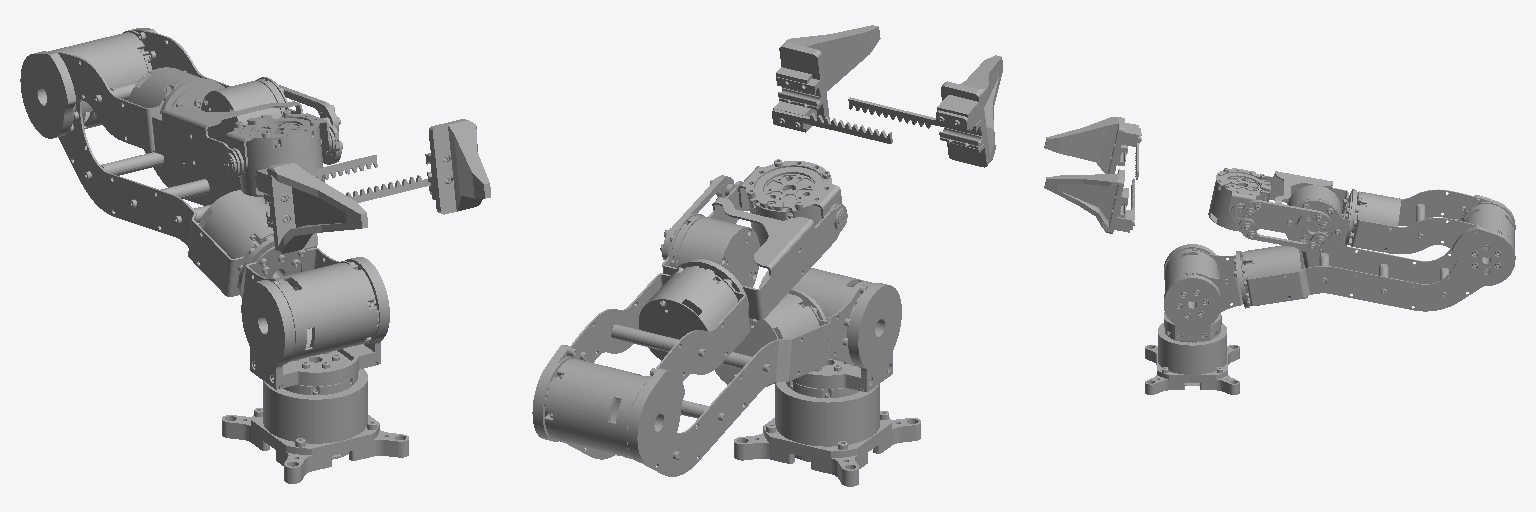
URDF robot description (openarm_grip):
<?xml version="1.0" ?>
<!-- =================================================================================== -->
<!-- |    This document was autogenerated by xacro from openarm_grip.xacro             | -->
<!-- |    EDITING THIS FILE BY HAND IS NOT RECOMMENDED                                 | -->
<!-- =================================================================================== -->
<robot name="openarm_grip">
  <material name="silver">
    <color rgba="0.700 0.700 0.700 1.000"/>
  </material>
  <transmission name="rev1_tran">
    <type>transmission_interface/SimpleTransmission</type>
    <joint name="rev1">
      <hardwareInterface>hardware_interface/EffortJointInterface</hardwareInterface>
    </joint>
    <actuator name="rev1_actr">
      <hardwareInterface>hardware_interface/EffortJointInterface</hardwareInterface>
      <mechanicalReduction>1</mechanicalReduction>
    </actuator>
  </transmission>
  <transmission name="rev2_tran">
    <type>transmission_interface/SimpleTransmission</type>
    <joint name="rev2">
      <hardwareInterface>hardware_interface/EffortJointInterface</hardwareInterface>
    </joint>
    <actuator name="rev2_actr">
      <hardwareInterface>hardware_interface/EffortJointInterface</hardwareInterface>
      <mechanicalReduction>1</mechanicalReduction>
    </actuator>
  </transmission>
  <transmission name="rev3_tran">
    <type>transmission_interface/SimpleTransmission</type>
    <joint name="rev3">
      <hardwareInterface>hardware_interface/EffortJointInterface</hardwareInterface>
    </joint>
    <actuator name="rev3_actr">
      <hardwareInterface>hardware_interface/EffortJointInterface</hardwareInterface>
      <mechanicalReduction>1</mechanicalReduction>
    </actuator>
  </transmission>
  <transmission name="rev4_tran">
    <type>transmission_interface/SimpleTransmission</type>
    <joint name="rev4">
      <hardwareInterface>hardware_interface/EffortJointInterface</hardwareInterface>
    </joint>
    <actuator name="rev4_actr">
      <hardwareInterface>hardware_interface/EffortJointInterface</hardwareInterface>
      <mechanicalReduction>1</mechanicalReduction>
    </actuator>
  </transmission>
  <transmission name="rev5_tran">
    <type>transmission_interface/SimpleTransmission</type>
    <joint name="rev5">
      <hardwareInterface>hardware_interface/EffortJointInterface</hardwareInterface>
    </joint>
    <actuator name="rev5_actr">
      <hardwareInterface>hardware_interface/EffortJointInterface</hardwareInterface>
      <mechanicalReduction>1</mechanicalReduction>
    </actuator>
  </transmission>
  <transmission name="rev6_tran">
    <type>transmission_interface/SimpleTransmission</type>
    <joint name="rev6">
      <hardwareInterface>hardware_interface/EffortJointInterface</hardwareInterface>
    </joint>
    <actuator name="rev6_actr">
      <hardwareInterface>hardware_interface/EffortJointInterface</hardwareInterface>
      <mechanicalReduction>1</mechanicalReduction>
    </actuator>
  </transmission>
  <transmission name="rev7_tran">
    <type>transmission_interface/SimpleTransmission</type>
    <joint name="rev7">
      <hardwareInterface>hardware_interface/EffortJointInterface</hardwareInterface>
    </joint>
    <actuator name="rev7_actr">
      <hardwareInterface>hardware_interface/EffortJointInterface</hardwareInterface>
      <mechanicalReduction>1</mechanicalReduction>
    </actuator>
  </transmission>
  <transmission name="slider_left_tran">
    <type>transmission_interface/SimpleTransmission</type>
    <joint name="slider_left">
      <hardwareInterface>hardware_interface/EffortJointInterface</hardwareInterface>
    </joint>
    <actuator name="slider_left_actr">
      <hardwareInterface>hardware_interface/EffortJointInterface</hardwareInterface>
      <mechanicalReduction>1</mechanicalReduction>
    </actuator>
  </transmission>
  <transmission name="slider_right_tran">
    <type>transmission_interface/SimpleTransmission</type>
    <joint name="slider_right">
      <hardwareInterface>hardware_interface/EffortJointInterface</hardwareInterface>
    </joint>
    <actuator name="slider_right_actr">
      <hardwareInterface>hardware_interface/EffortJointInterface</hardwareInterface>
      <mechanicalReduction>1</mechanicalReduction>
    </actuator>
  </transmission>
  <gazebo>
    <plugin filename="gz_ros2_control-system" name="gz_ros2_control::GazeboSimROS2ControlPlugin"/>
  </gazebo>
  <gazebo reference="base_link">
    <material>Gazebo/Silver</material>
    <mu1>0.2</mu1>
    <mu2>0.2</mu2>
    <self_collide>true</self_collide>
    <gravity>true</gravity>
  </gazebo>
  <gazebo reference="J2_v1_1">
    <material>Gazebo/Silver</material>
    <mu1>0.2</mu1>
    <mu2>0.2</mu2>
    <self_collide>true</self_collide>
  </gazebo>
  <gazebo reference="J3_v1_1">
    <material>Gazebo/Silver</material>
    <mu1>0.2</mu1>
    <mu2>0.2</mu2>
    <self_collide>true</self_collide>
  </gazebo>
  <gazebo reference="J4_v1_1">
    <material>Gazebo/Silver</material>
    <mu1>0.2</mu1>
    <mu2>0.2</mu2>
    <self_collide>true</self_collide>
  </gazebo>
  <gazebo reference="J5_v1_1">
    <material>Gazebo/Silver</material>
    <mu1>0.2</mu1>
    <mu2>0.2</mu2>
    <self_collide>true</self_collide>
  </gazebo>
  <gazebo reference="J6_v1_1">
    <material>Gazebo/Silver</material>
    <mu1>0.2</mu1>
    <mu2>0.2</mu2>
    <self_collide>true</self_collide>
  </gazebo>
  <gazebo reference="J7_v1_1">
    <material>Gazebo/Silver</material>
    <mu1>0.2</mu1>
    <mu2>0.2</mu2>
    <self_collide>true</self_collide>
  </gazebo>
  <gazebo reference="grip_attach_1">
    <material>Gazebo/Silver</material>
    <mu1>0.2</mu1>
    <mu2>0.2</mu2>
    <self_collide>true</self_collide>
  </gazebo>
  <gazebo reference="left_jaw_1">
    <material>Gazebo/Silver</material>
    <mu1>0.2</mu1>
    <mu2>0.2</mu2>
    <self_collide>true</self_collide>
  </gazebo>
  <gazebo reference="right_jaw_1">
    <material>Gazebo/Silver</material>
    <mu1>0.2</mu1>
    <mu2>0.2</mu2>
    <self_collide>true</self_collide>
  </gazebo>
  <link name="world"/>
  <joint name="world_joint" type="fixed">
    <parent link="world"/>
    <child link="base_link"/>
    <origin rpy="0.0 0.0 0.0" xyz="0.0 0.0 0.0"/>
  </joint>
  <link name="base_link">
    <inertial>
      <origin rpy="0 0 0" xyz="1.659663993709495e-08 0.00015470291788827239 -0.03159176823669262"/>
      <mass value="0.9159780860248254"/>
      <inertia ixx="0.000802" ixy="-0.0" ixz="0.0" iyy="0.000799" iyz="-0.0" izz="0.001037"/>
    </inertial>
    <visual>
      <origin rpy="0 0 0" xyz="0 0 0"/>
      <geometry>
        <mesh filename="package://openarm_grip_description/meshes/base_link.stl" scale="0.001 0.001 0.001"/>
      </geometry>
      <material name="silver"/>
    </visual>
    <collision>
      <origin rpy="0 0 0" xyz="0 0 0"/>
      <geometry>
        <mesh filename="package://openarm_grip_description/meshes/base_link.stl" scale="0.001 0.001 0.001"/>
      </geometry>
    </collision>
  </link>
  <link name="J2_v1_1">
    <inertial>
      <origin rpy="0 0 0" xyz="0.002300730781673588 -0.00021691236314287158 0.02760602616888808"/>
      <mass value="0.49220952328993495"/>
      <inertia ixx="0.000316" ixy="0.0" ixz="-2.2e-05" iyy="0.000717" iyz="-3e-06" izz="0.00059"/>
    </inertial>
    <visual>
      <origin rpy="0 0 0" xyz="-0.0 -0.0 0.00225"/>
      <geometry>
        <mesh filename="package://openarm_grip_description/meshes/J2_v1_1.stl" scale="0.001 0.001 0.001"/>
      </geometry>
      <material name="silver"/>
    </visual>
    <collision>
      <origin rpy="0 0 0" xyz="-0.0 -0.0 0.00225"/>
      <geometry>
        <mesh filename="package://openarm_grip_description/meshes/J2_v1_1.stl" scale="0.001 0.001 0.001"/>
      </geometry>
    </collision>
  </link>
  <link name="J3_v1_1">
    <inertial>
      <origin rpy="0 0 0" xyz="-0.029725947365562236 0.014084733811091961 0.002458883521108013"/>
      <mass value="0.6372830939810512"/>
      <inertia ixx="0.000647" ixy="4e-06" ixz="2e-06" iyy="0.000437" iyz="-5.2e-05" izz="0.00075"/>
    </inertial>
    <visual>
      <origin rpy="0 0 0" xyz="-0.02975 0.0 -0.0425"/>
      <geometry>
        <mesh filename="package://openarm_grip_description/meshes/J3_v1_1.stl" scale="0.001 0.001 0.001"/>
      </geometry>
      <material name="silver"/>
    </visual>
    <collision>
      <origin rpy="0 0 0" xyz="-0.02975 0.0 -0.0425"/>
      <geometry>
        <mesh filename="package://openarm_grip_description/meshes/J3_v1_1.stl" scale="0.001 0.001 0.001"/>
      </geometry>
    </collision>
  </link>
  <link name="J4_v1_1">
    <inertial>
      <origin rpy="0 0 0" xyz="8.405076184644401e-05 0.1358717615053826 0.018429965102241944"/>
      <mass value="1.1025467379280594"/>
      <inertia ixx="0.011905" ixy="-1e-06" ixz="-4e-06" iyy="0.00114" iyz="-0.001657" izz="0.011791"/>
    </inertial>
    <visual>
      <origin rpy="0 0 0" xyz="0.0 -0.06041 -0.052607"/>
      <geometry>
        <mesh filename="package://openarm_grip_description/meshes/J4_v1_1.stl" scale="0.001 0.001 0.001"/>
      </geometry>
      <material name="silver"/>
    </visual>
    <collision>
      <origin rpy="0 0 0" xyz="0.0 -0.06041 -0.052607"/>
      <geometry>
        <mesh filename="package://openarm_grip_description/meshes/J4_v1_1.stl" scale="0.001 0.001 0.001"/>
      </geometry>
    </collision>
  </link>
  <link name="J5_v1_1">
    <inertial>
      <origin rpy="0 0 0" xyz="-0.028086778609557873 -0.06237848032279486 0.015103464347573828"/>
      <mass value="0.7296865736952145"/>
      <inertia ixx="0.002473" ixy="-7e-05" ixz="1.8e-05" iyy="0.000853" iyz="0.00038" izz="0.002847"/>
    </inertial>
    <visual>
      <origin rpy="0 0 0" xyz="-0.029755 -0.298846 -0.0925"/>
      <geometry>
        <mesh filename="package://openarm_grip_description/meshes/J5_v1_1.stl" scale="0.001 0.001 0.001"/>
      </geometry>
      <material name="silver"/>
    </visual>
    <collision>
      <origin rpy="0 0 0" xyz="-0.029755 -0.298846 -0.0925"/>
      <geometry>
        <mesh filename="package://openarm_grip_description/meshes/J5_v1_1.stl" scale="0.001 0.001 0.001"/>
      </geometry>
    </collision>
  </link>
  <link name="J6_v1_1">
    <inertial>
      <origin rpy="0 0 0" xyz="0.016428123043712856 -0.04271549352047854 0.009023923091251038"/>
      <mass value="1.0339114396114095"/>
      <inertia ixx="0.000881" ixy="0.000136" ixz="-1.1e-05" iyy="0.000614" iyz="0.000102" izz="0.001054"/>
    </inertial>
    <visual>
      <origin rpy="0 0 0" xyz="0.0 -0.167496 -0.118765"/>
      <geometry>
        <mesh filename="package://openarm_grip_description/meshes/J6_v1_1.stl" scale="0.001 0.001 0.001"/>
      </geometry>
      <material name="silver"/>
    </visual>
    <collision>
      <origin rpy="0 0 0" xyz="0.0 -0.167496 -0.118765"/>
      <geometry>
        <mesh filename="package://openarm_grip_description/meshes/J6_v1_1.stl" scale="0.001 0.001 0.001"/>
      </geometry>
    </collision>
  </link>
  <link name="J7_v1_1">
    <inertial>
      <origin rpy="0 0 0" xyz="-0.03510690863628159 0.0004066264284608781 0.001093657345024951"/>
      <mass value="0.33288025570396623"/>
      <inertia ixx="0.00014" ixy="-0.0" ixz="2e-06" iyy="0.000179" iyz="7e-06" izz="0.000207"/>
    </inertial>
    <visual>
      <origin rpy="0 0 0" xyz="-0.0355 -0.048796 -0.1425"/>
      <geometry>
        <mesh filename="package://openarm_grip_description/meshes/J7_v1_1.stl" scale="0.001 0.001 0.001"/>
      </geometry>
      <material name="silver"/>
    </visual>
    <collision>
      <origin rpy="0 0 0" xyz="-0.0355 -0.048796 -0.1425"/>
      <geometry>
        <mesh filename="package://openarm_grip_description/meshes/J7_v1_1.stl" scale="0.001 0.001 0.001"/>
      </geometry>
    </collision>
  </link>
  <link name="grip_attach_1">
    <inertial>
      <origin rpy="0 0 0" xyz="-3.544262443517109e-05 -0.08091067772872827 0.004061313352520662"/>
      <mass value="0.8188472642682024"/>
      <inertia ixx="0.001113" ixy="1e-06" ixz="2e-06" iyy="0.00061" iyz="-2.2e-05" izz="0.001556"/>
    </inertial>
    <visual>
      <origin rpy="0 0 0" xyz="0.0 -0.051826 -0.15765"/>
      <geometry>
        <mesh filename="package://openarm_grip_description/meshes/grip_attach_1.stl" scale="0.001 0.001 0.001"/>
      </geometry>
      <material name="silver"/>
    </visual>
    <collision>
      <origin rpy="0 0 0" xyz="0.0 -0.051826 -0.15765"/>
      <geometry>
        <mesh filename="package://openarm_grip_description/meshes/grip_attach_1.stl" scale="0.001 0.001 0.001"/>
      </geometry>
    </collision>
  </link>
  <link name="left_jaw_1">
    <inertial>
      <origin rpy="0 0 0" xyz="0.01737096632831872 -0.017398412728963003 0.004062150876211923"/>
      <mass value="0.2869555939898112"/>
      <inertia ixx="0.000209" ixy="1.6e-05" ixz="-4e-06" iyy="9.7e-05" iyz="3e-06" izz="0.000185"/>
    </inertial>
    <visual>
      <origin rpy="0 0 0" xyz="0.0775 0.069829 -0.169736"/>
      <geometry>
        <mesh filename="package://openarm_grip_description/meshes/left_jaw_1.stl" scale="0.001 0.001 0.001"/>
      </geometry>
      <material name="silver"/>
    </visual>
    <collision>
      <origin rpy="0 0 0" xyz="0.0775 0.069829 -0.169736"/>
      <geometry>
        <mesh filename="package://openarm_grip_description/meshes/left_jaw_1.stl" scale="0.001 0.001 0.001"/>
      </geometry>
    </collision>
  </link>
  <link name="right_jaw_1">
    <inertial>
      <origin rpy="0 0 0" xyz="-0.0173972747583793 -0.018685385724924758 -0.0017497641003002828"/>
      <mass value="0.285094009790996"/>
      <inertia ixx="0.000211" ixy="-1.6e-05" ixz="4e-06" iyy="0.000115" iyz="3.9e-05" izz="0.000169"/>
    </inertial>
    <visual>
      <origin rpy="0 0 0" xyz="-0.0775 0.069829 -0.169736"/>
      <geometry>
        <mesh filename="package://openarm_grip_description/meshes/right_jaw_1.stl" scale="0.001 0.001 0.001"/>
      </geometry>
      <material name="silver"/>
    </visual>
    <collision>
      <origin rpy="0 0 0" xyz="-0.0775 0.069829 -0.169736"/>
      <geometry>
        <mesh filename="package://openarm_grip_description/meshes/right_jaw_1.stl" scale="0.001 0.001 0.001"/>
      </geometry>
    </collision>
  </link>
  <joint name="rev1" type="revolute">
    <origin rpy="0 0 0" xyz="0.0 0.0 -0.00225"/>
    <parent link="base_link"/>
    <child link="J2_v1_1"/>
    <axis xyz="0.0 0.0 1.0"/>
    <limit acceleration="0.5" effort="100" lower="-2.356194" upper="2.356194" velocity="1.0"/>
    <dynamics damping="1.0" friction="1.0"/>
  </joint>
  <joint name="rev2" type="revolute">
    <origin rpy="0 0 0" xyz="0.02975 -0.0 0.04475"/>
    <parent link="J2_v1_1"/>
    <child link="J3_v1_1"/>
    <axis xyz="-1.0 -0.0 0.0"/>
    <limit acceleration="0.5" effort="100" lower="-3.054326" upper="0.0" velocity="1.0"/>
    <dynamics damping="1.0" friction="1.0"/>
  </joint>
  <joint name="rev3" type="revolute">
    <origin rpy="0 0 0" xyz="-0.02975 0.06041 0.010107"/>
    <parent link="J3_v1_1"/>
    <child link="J4_v1_1"/>
    <axis xyz="-0.0 0.986291 0.165017"/>
    <limit acceleration="0.5" effort="100" lower="-2.094395" upper="2.094395" velocity="1.0"/>
    <dynamics damping="1.0" friction="1.0"/>
  </joint>
  <joint name="rev4" type="revolute">
    <origin rpy="0 0 0" xyz="0.029755 0.238436 0.039893"/>
    <parent link="J4_v1_1"/>
    <child link="J5_v1_1"/>
    <axis xyz="1.0 0.0 0.0"/>
    <limit acceleration="0.5" effort="100" lower="-3.141593" upper="0.0" velocity="1.0"/>
    <dynamics damping="1.0" friction="1.0"/>
  </joint>
  <joint name="rev5" type="revolute">
    <origin rpy="0 0 0" xyz="-0.029755 -0.13135 0.026265"/>
    <parent link="J5_v1_1"/>
    <child link="J6_v1_1"/>
    <axis xyz="0.0 -0.980588 0.196078"/>
    <limit acceleration="0.5" effort="100" lower="-2.094395" upper="2.094395" velocity="1.0"/>
    <dynamics damping="1.0" friction="1.0"/>
  </joint>
  <joint name="rev6" type="revolute">
    <origin rpy="0 0 0" xyz="0.0355 -0.1187 0.023735"/>
    <parent link="J6_v1_1"/>
    <child link="J7_v1_1"/>
    <axis xyz="-1.0 0.0 -0.0"/>
    <limit acceleration="0.5" effort="100" lower="-1.570796" upper="1.570796" velocity="1.0"/>
    <dynamics damping="1.0" friction="1.0"/>
  </joint>
  <joint name="rev7" type="revolute">
    <origin rpy="0 0 0" xyz="-0.0355 0.00303 0.01515"/>
    <parent link="J7_v1_1"/>
    <child link="grip_attach_1"/>
    <axis xyz="0.0 0.196078 0.980588"/>
    <limit acceleration="0.5" effort="100" lower="-1.5" upper="1.5" velocity="1.0"/>
    <dynamics damping="1.0" friction="1.0"/>
  </joint>
  <joint name="slider_left" type="prismatic">
    <origin rpy="0 0 0" xyz="-0.0775 -0.121655 0.012086"/>
    <parent link="grip_attach_1"/>
    <child link="left_jaw_1"/>
    <axis xyz="-1.0 0.0 -0.0"/>
    <limit acceleration="0.5" effort="100" lower="-0.0455" upper="0.0" velocity="1.0"/>
    <dynamics damping="1.0" friction="1.0"/>
  </joint>
  <joint name="slider_right" type="prismatic">
    <origin rpy="0 0 0" xyz="0.0775 -0.121655 0.012086"/>
    <parent link="grip_attach_1"/>
    <child link="right_jaw_1"/>
    <axis xyz="1.0 -0.0 0.0"/>
    <limit acceleration="0.5" effort="100" lower="-0.0455" upper="0.0" velocity="1.0"/>
    <dynamics damping="1.0" friction="1.0"/>
    <mimic joint="slider_left"/>
  </joint>
</robot>

--- Facts derived from the render (not from the file) ---
Views: 3 orthographic renders of the robot side by side, from view 1: azimuth 30°, elevation 25°; view 2: azimuth 150°, elevation 25°; view 3: azimuth 270°, elevation 25°.
Model openarm_grip with 11 links and 10 joints (7 revolute, 2 prismatic, 1 fixed), rooted at world, posed every joint at zero.
Visible links, largest first — view 1: J4_v1_1, J5_v1_1, base_link, J3_v1_1, J6_v1_1, J2_v1_1, left_jaw_1, right_jaw_1, J7_v1_1; view 2: J4_v1_1, J5_v1_1, J6_v1_1, base_link, right_jaw_1, left_jaw_1, J2_v1_1, J7_v1_1, J3_v1_1; view 3: J4_v1_1, J5_v1_1, J6_v1_1, base_link, J2_v1_1, right_jaw_1, left_jaw_1, J3_v1_1, J7_v1_1.
Link boxes in pixels (x1,y1,x2,y2): J4_v1_1: (48, 32, 317, 297); J5_v1_1: (20, 28, 230, 151); base_link: (222, 369, 408, 483); J3_v1_1: (238, 237, 378, 361); J6_v1_1: (152, 77, 342, 178); J2_v1_1: (241, 257, 389, 389); left_jaw_1: (255, 155, 377, 253); right_jaw_1: (346, 119, 490, 214); J7_v1_1: (225, 110, 330, 196); J4_v1_1: (544, 293, 829, 476); J5_v1_1: (532, 266, 749, 464); J6_v1_1: (660, 175, 847, 319); base_link: (734, 381, 920, 486); right_jaw_1: (772, 25, 892, 143); left_jaw_1: (848, 55, 1002, 167); J2_v1_1: (759, 270, 901, 392); J7_v1_1: (738, 159, 845, 246); J3_v1_1: (789, 268, 873, 365); J4_v1_1: (1242, 204, 1514, 311); J5_v1_1: (1348, 189, 1515, 285); J6_v1_1: (1231, 171, 1358, 252); base_link: (1145, 323, 1239, 394); J2_v1_1: (1164, 244, 1221, 340); right_jaw_1: (1044, 169, 1134, 233); left_jaw_1: (1044, 117, 1141, 179); J3_v1_1: (1165, 248, 1249, 312); J7_v1_1: (1208, 168, 1270, 231).
Size in the robot's own frame: 0.156 by 0.4789 by 0.2545 metres.
9 mesh visuals loaded from 10 distinct referenced files (9 binary STL); not drawn: 1 (reference not matched to a file when rendering).